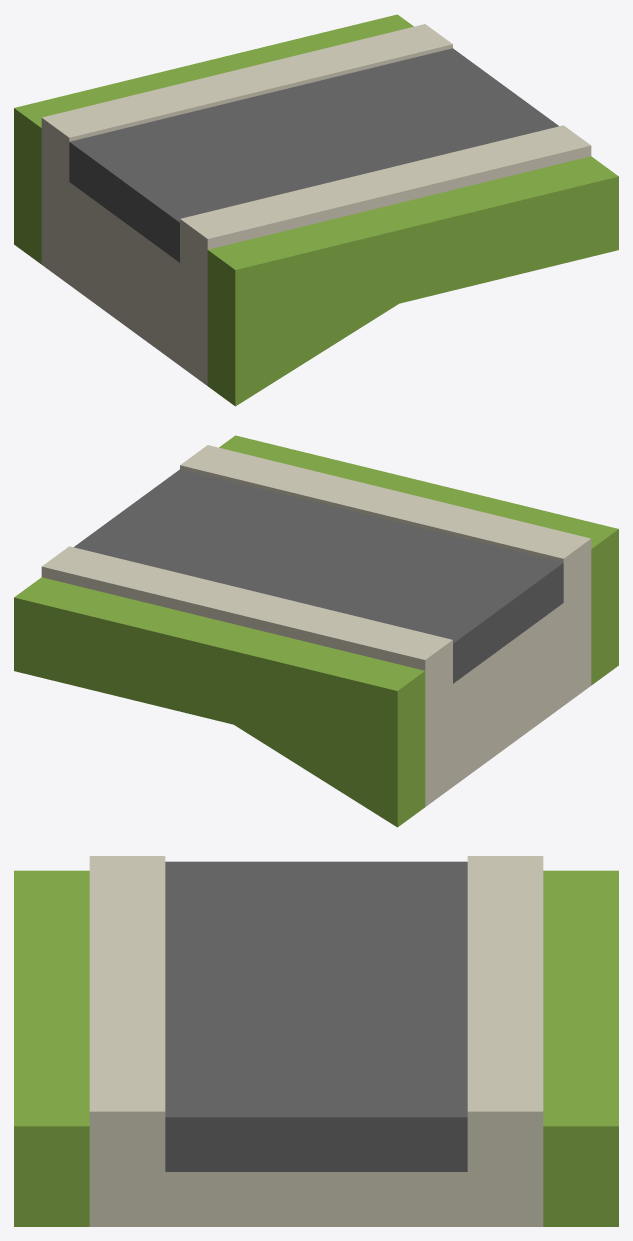
File: tile087.obj
3 renders of one model, top to bottom at view 1: azimuth 30°, elevation 25°; view 2: azimuth 150°, elevation 25°; view 3: azimuth 270°, elevation 25°, orthographic. The views are drawn at different scales.
Parts seen in each view (by area): view 1: tile087; view 2: tile087; view 3: tile087.
Boxes of the visible parts, <box> form: tile087: <box>14,14,618,406</box>; tile087: <box>14,435,618,827</box>; tile087: <box>14,856,618,1226</box>.
Bounding box in the file's own units: 1 × 0.3667 × 1.
